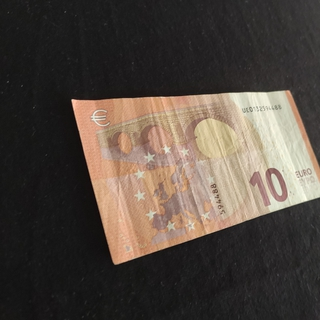10EUROBack: (71, 90, 320, 265)
